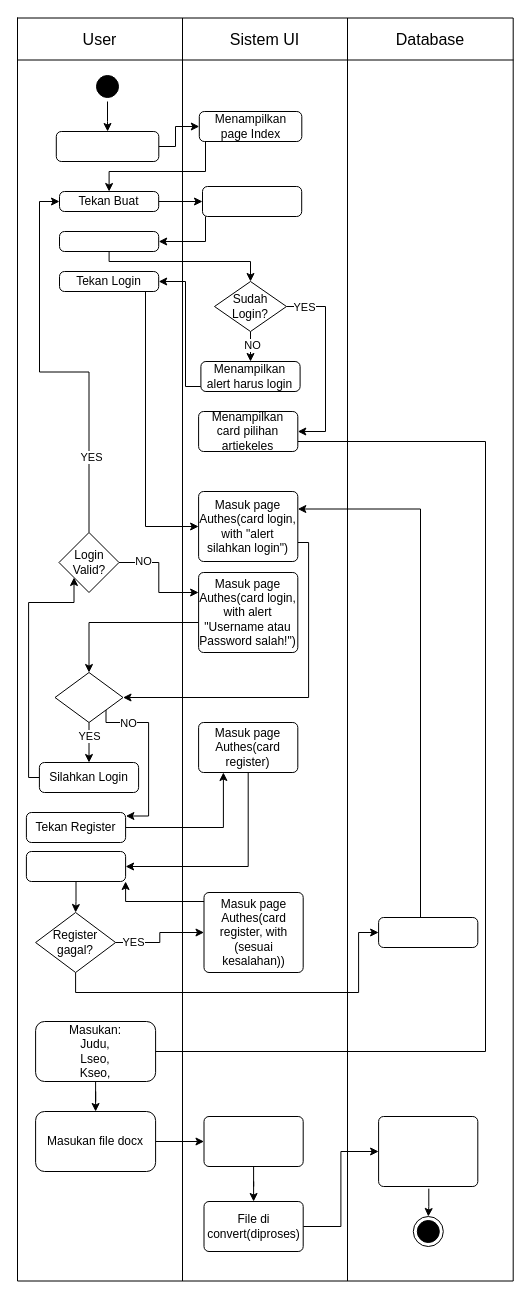
Image size: 531x1298. Some labels were removed from this diagram. The centre of each missing label's shape, as x and y in pixels:
File masuk ke storage: point 253,1141
Masukan data ke tabel akun: point 428,932
Masukan data konten dan lainnya ke tabel artiekeles: point 428,1151
Membuka Web: point 107,146
Menampilkan card pilihan: point 252,201
Punya Akun?: point 88,697
Silahkan Register: point 75,866
Tekan Artiekeles: point 108,241
